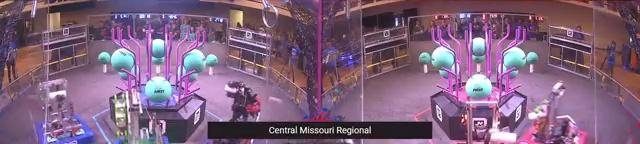reef: (428, 22, 528, 141), (108, 24, 205, 143)
robot: (516, 81, 590, 144), (34, 75, 95, 144), (202, 81, 263, 144), (108, 87, 169, 144), (455, 98, 513, 144)
